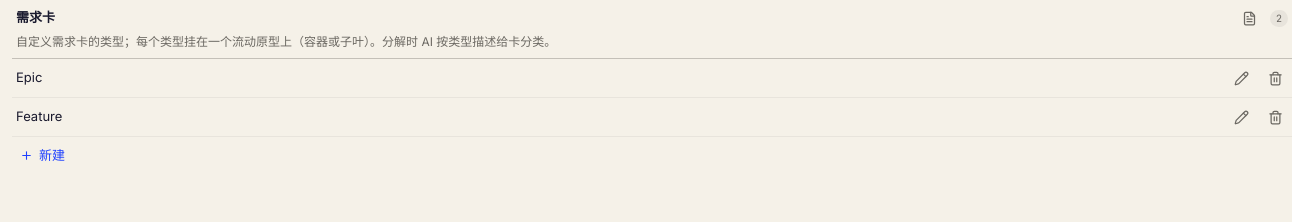
Test: CardTypeLibrary › 删除被引用类型 → 显示可读原因、不消失
The width and height of the screenshot is (1292, 222).
Expected: the text "Feature" is shown, [16,108,62,124]
Click the button named "删除 Feature" at (1275,117), box [1262,104,1288,130]
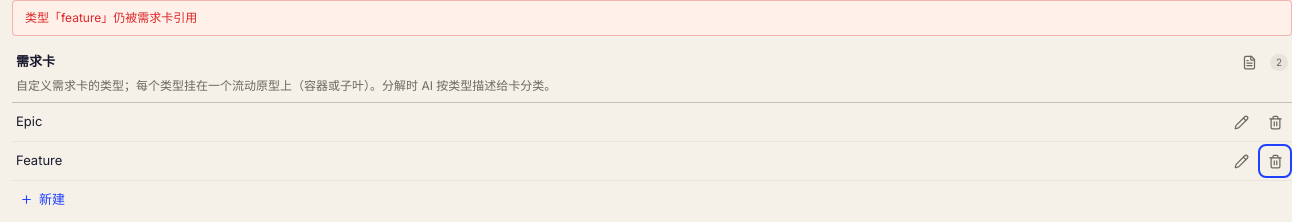
Expected: the text "Feature" is shown, [16,152,62,168]
Expected: the message shows "仍被需求卡引用", [25,10,197,25]
